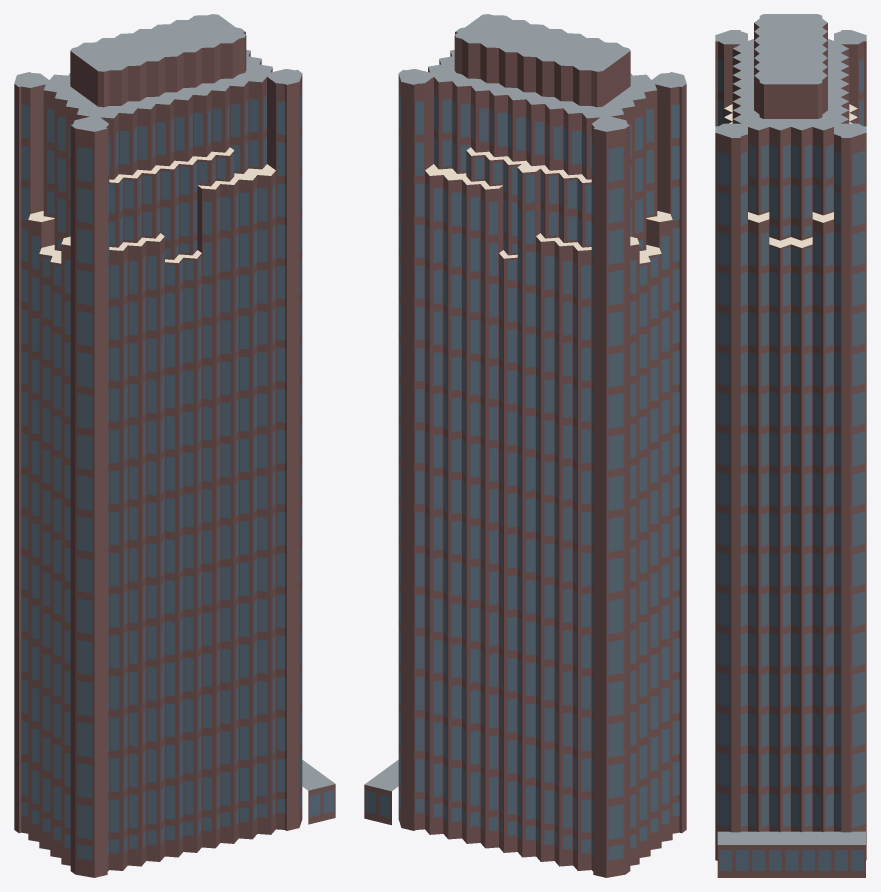
File: sf-555-california.glb
The picture shows the model from 3 angles, left to right: view 1: azimuth 30°, elevation 25°; view 2: azimuth 150°, elevation 25°; view 3: azimuth 270°, elevation 25°; orthographic projection. The views are drawn at different scales.
Parts seen in each view (by area): view 1: 555 California Street; view 2: 555 California Street; view 3: 555 California Street.
Part boxes in pixels (left/top/right/bottom): 555 California Street: left=14, top=14, right=335, bottom=877; 555 California Street: left=364, top=14, right=686, bottom=877; 555 California Street: left=715, top=14, right=866, bottom=877.
Bounding box in the file's own units: 82.15 × 242 × 43.6.
